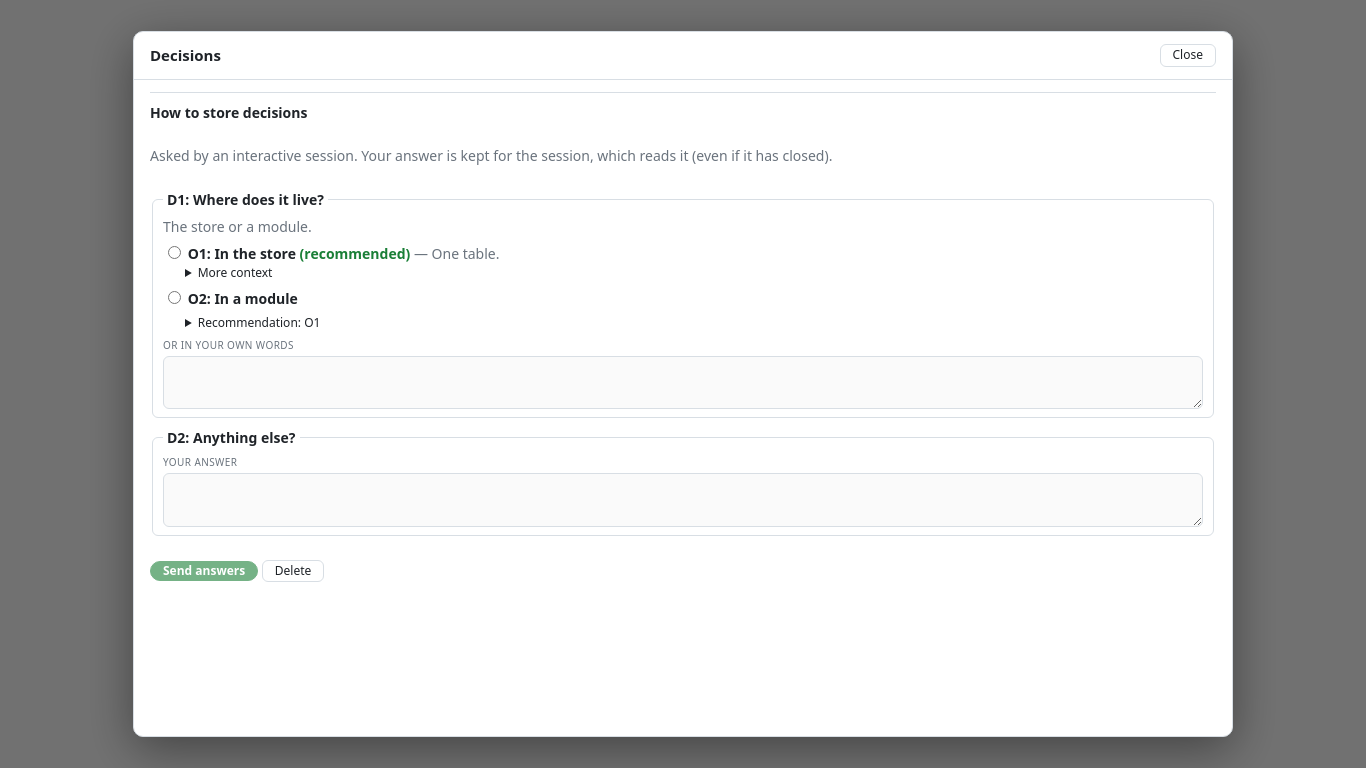
the decisions dialog › a refused answer says why and can be sent again
The width and height of the screenshot is (1366, 768).
Step 1. Click the radio button labelled "O1: In the store" → (174, 252), box x1=168 y1=246 x2=181 y2=259
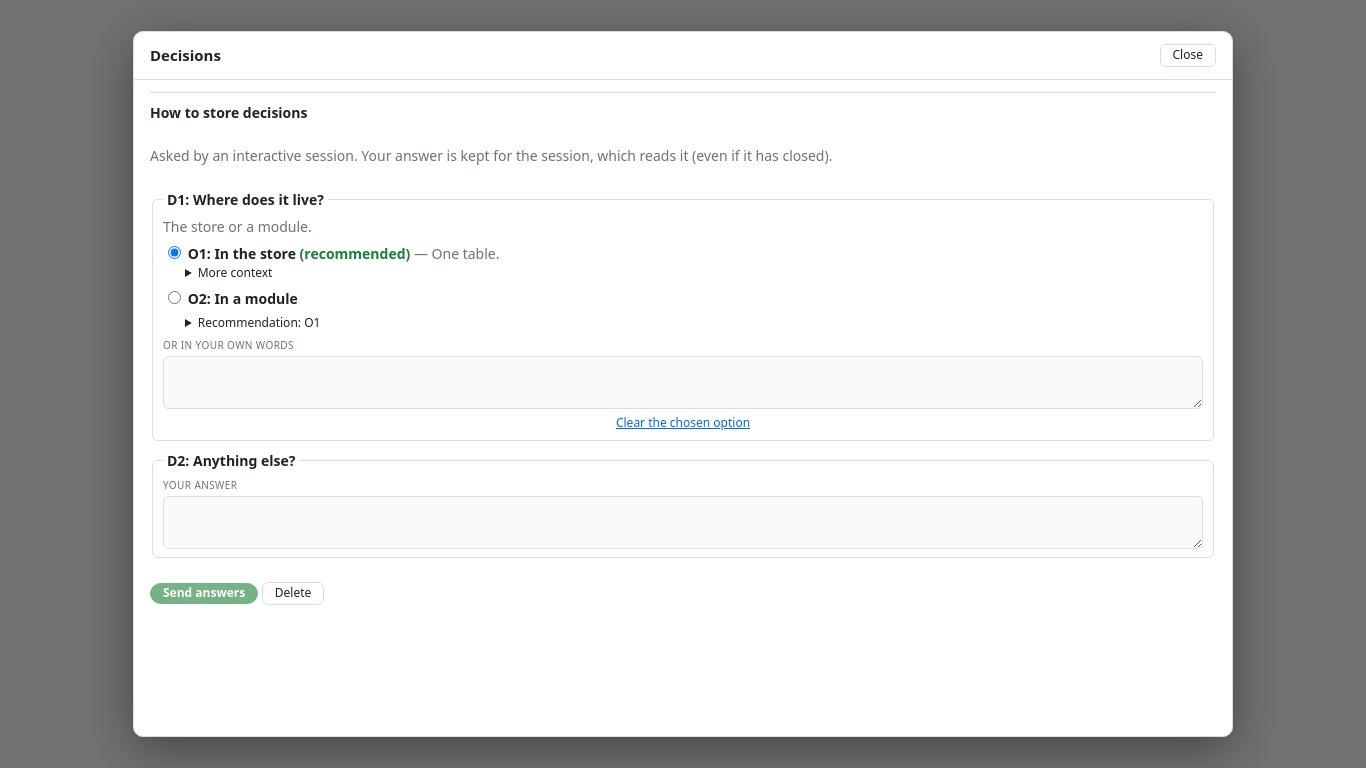
Step 2. Type "x" into the text box named "Your words for D2" → (683, 523), box x1=163 y1=496 x2=1203 y2=550
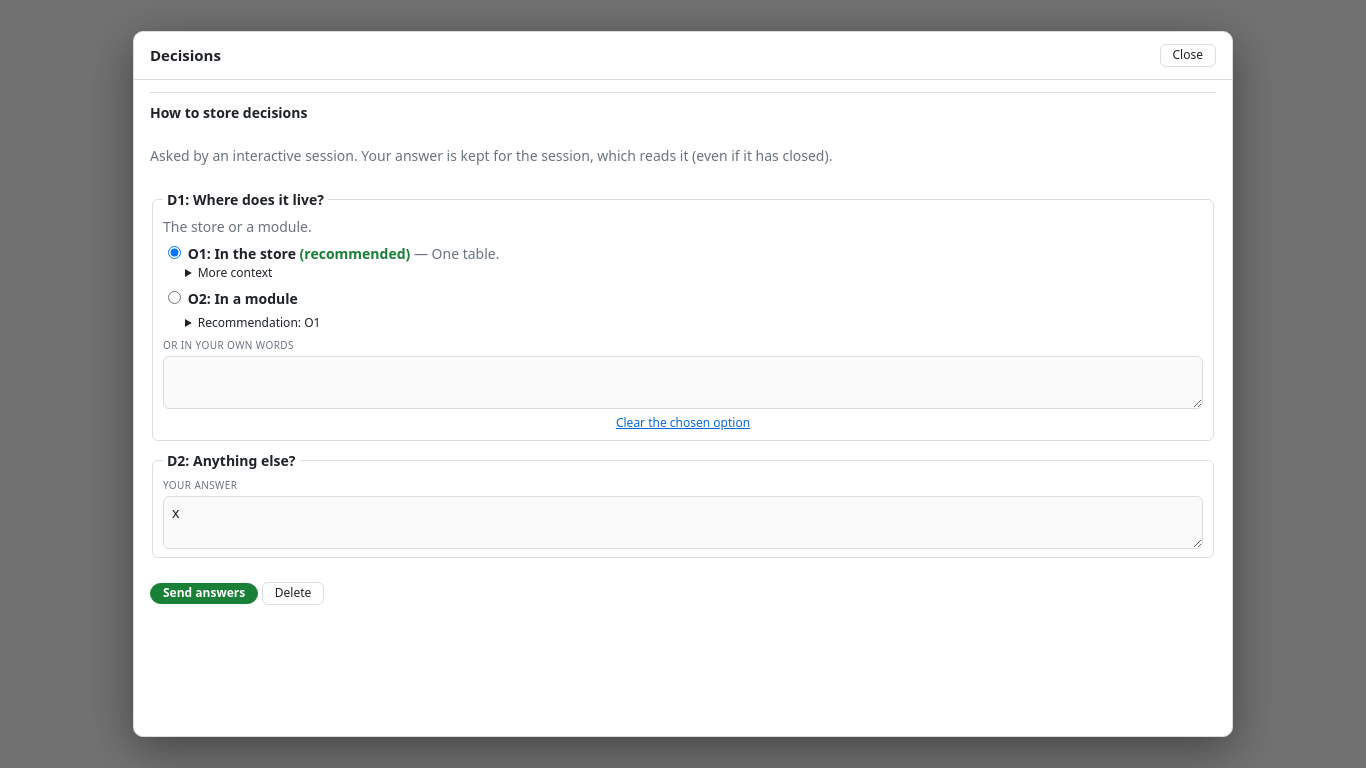
Step 3. Click the button "Send answers" → (204, 594), box x1=150 y1=583 x2=258 y2=604
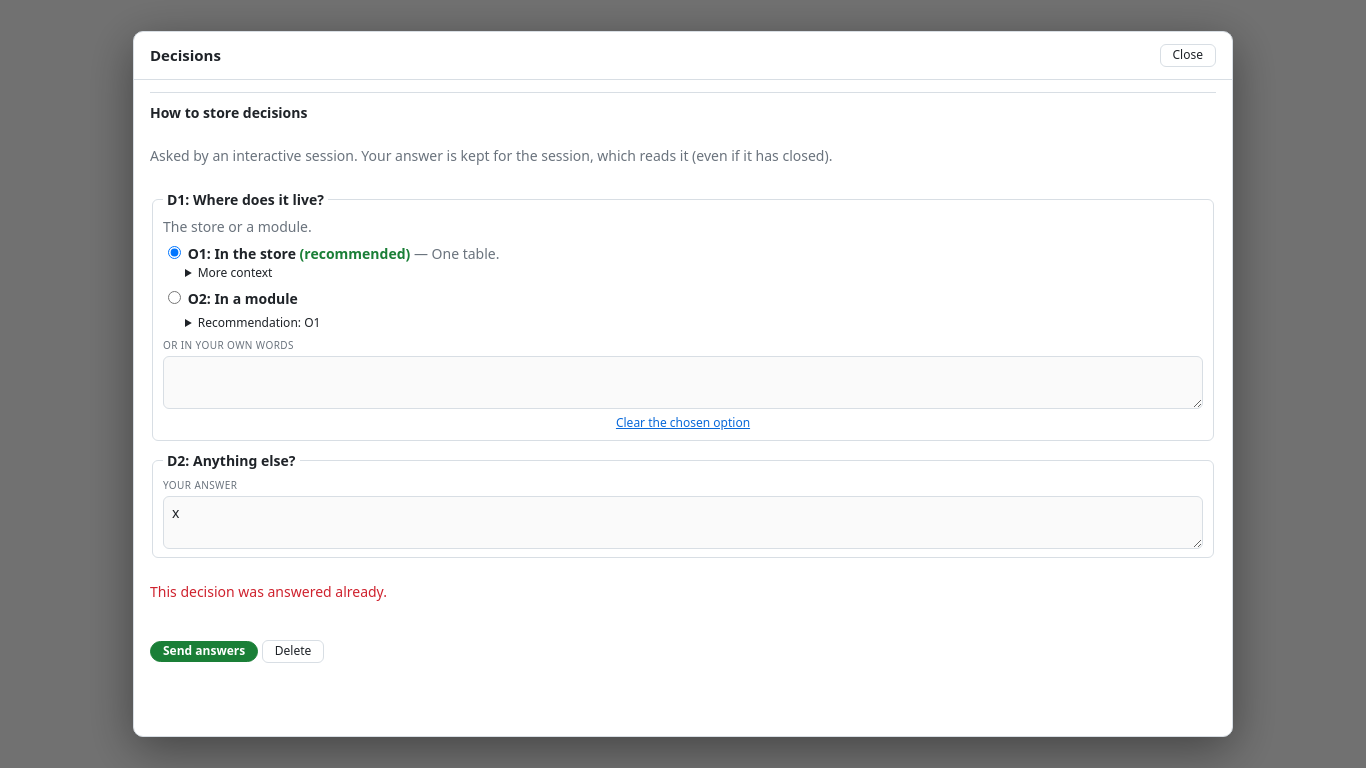
Expected: the button "Send answers" is enabled, x1=150 y1=641 x2=258 y2=662
Expected: the message shows "answered already", x1=150 y1=582 x2=387 y2=601
